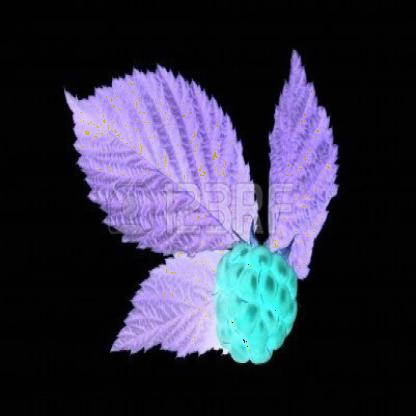raspberry leaf: (63, 58, 256, 250), (107, 236, 280, 367), (277, 48, 342, 270)
